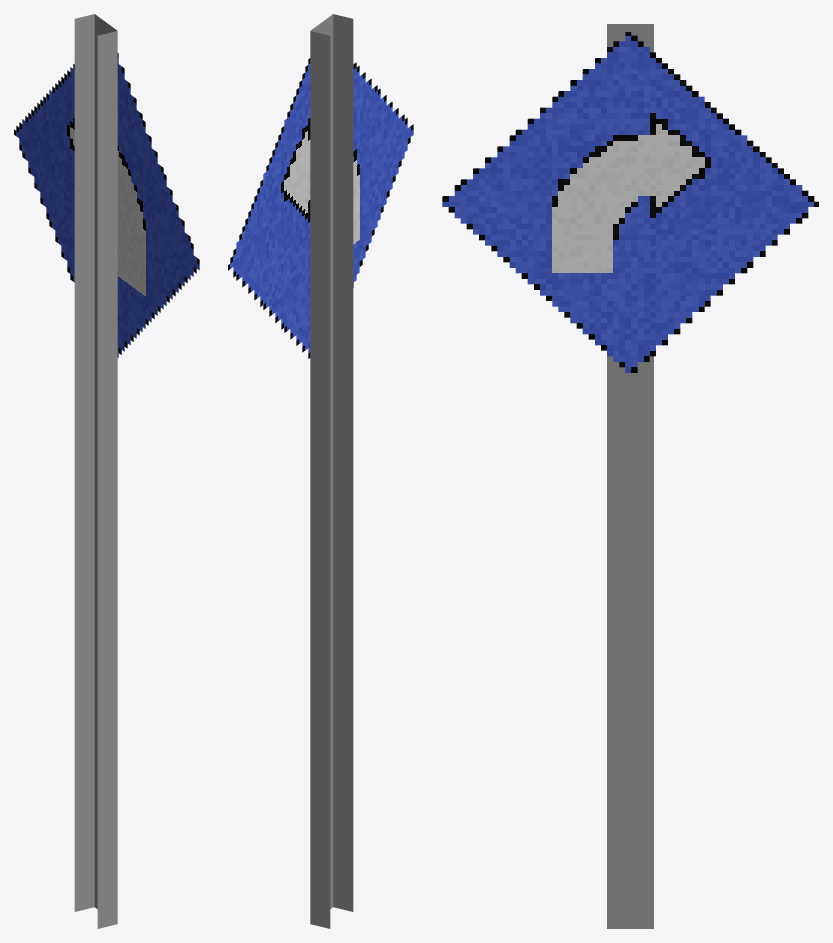
Rendered from sign_rightturn.fbx.
3 views of the same model, side by side, from view 1: azimuth 30°, elevation 25°; view 2: azimuth 150°, elevation 25°; view 3: azimuth 270°, elevation 25° (orthographic).
Parts seen in each view (by area): view 1: Sign_Diamond.001; view 2: Sign_Diamond.001; view 3: Sign_Diamond.001.
Part boxes in pixels (box(x1,y1,x2,y2)): Sign_Diamond.001: box(14, 14, 199, 928); Sign_Diamond.001: box(228, 14, 413, 928); Sign_Diamond.001: box(442, 24, 818, 928).
Size of the model in its own units: 5.18 by 213 by 80.53.
Materials: 2 (1 with a texture image).
